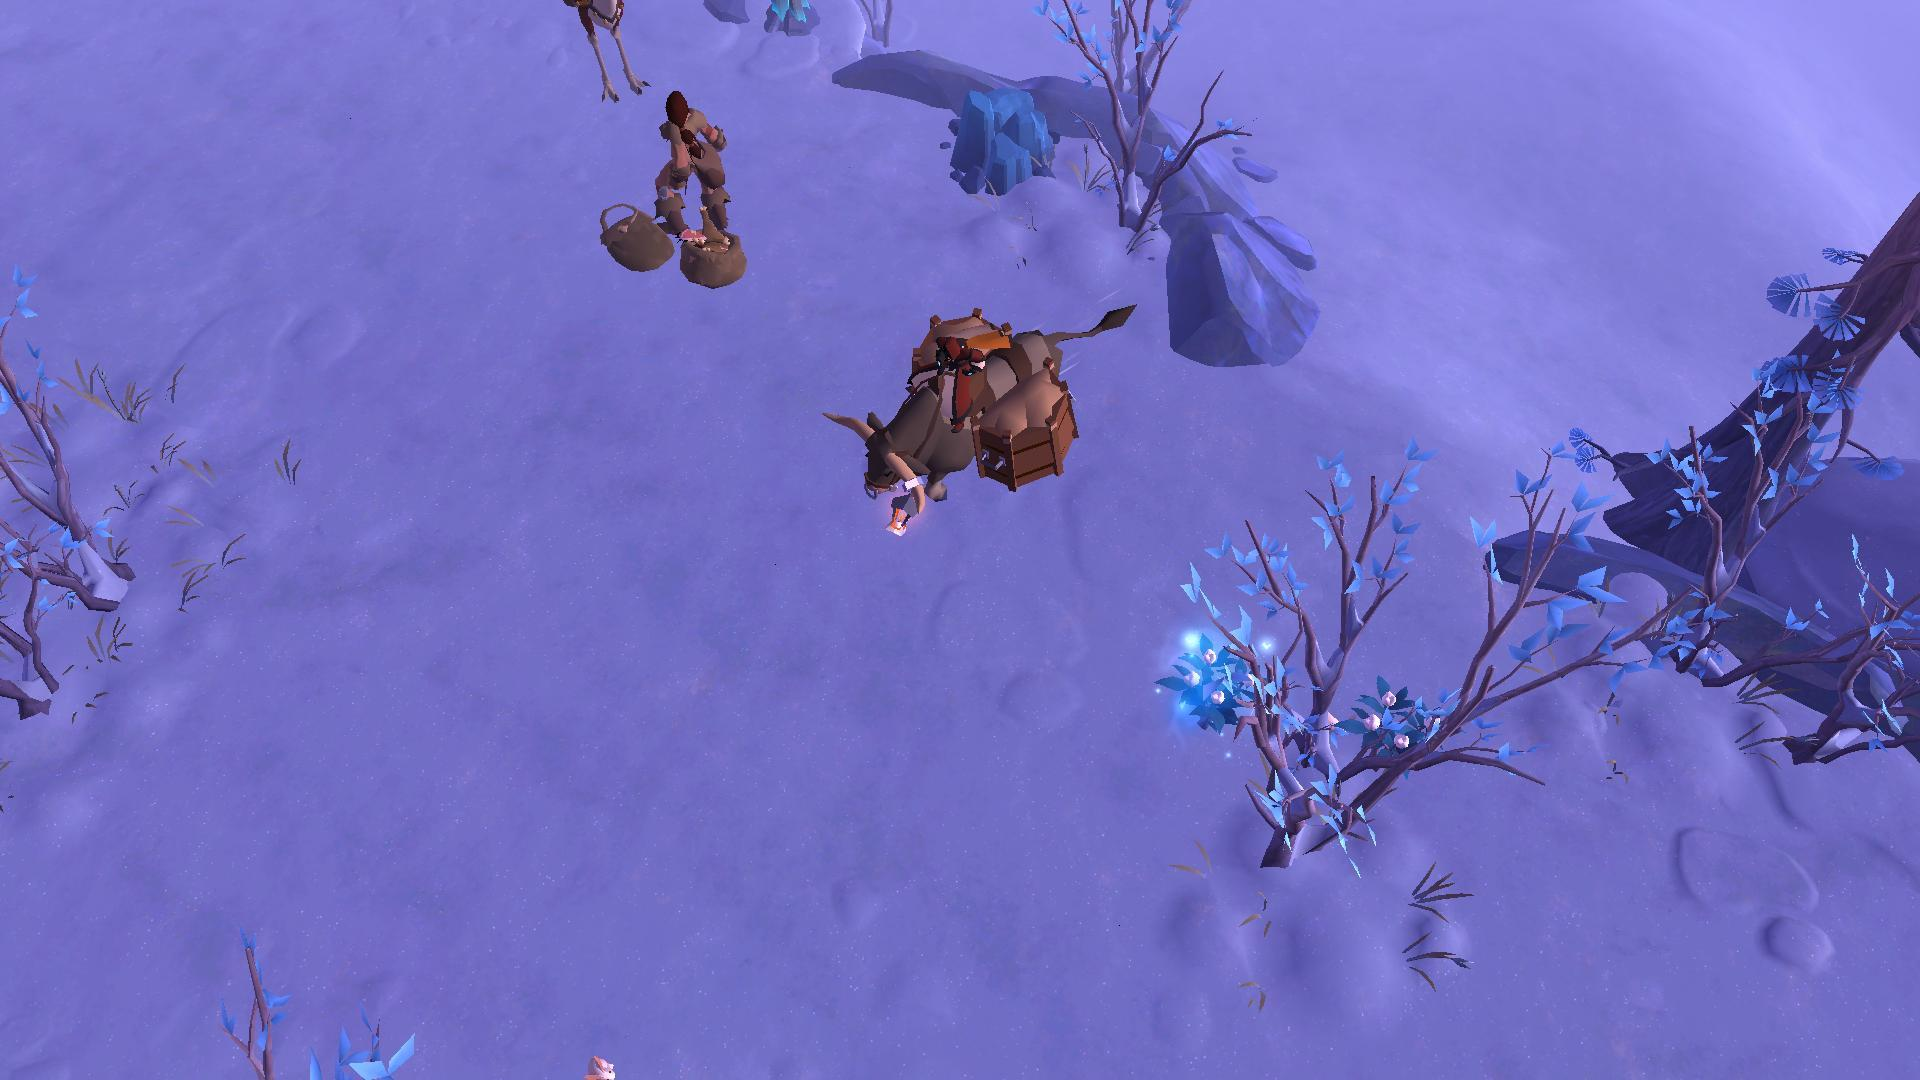enemy_factionKeeper: (657, 87, 742, 233)
fiber_t4: (1154, 630, 1261, 744), (1333, 670, 1453, 766)
rock_t4: (943, 86, 1055, 198)
